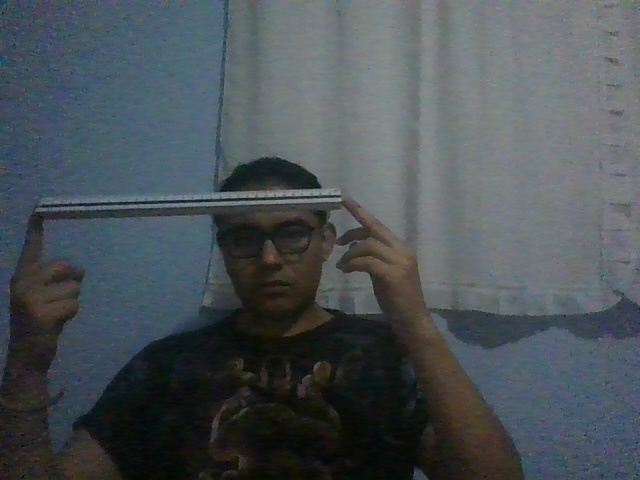regla: (33, 187, 342, 221)
